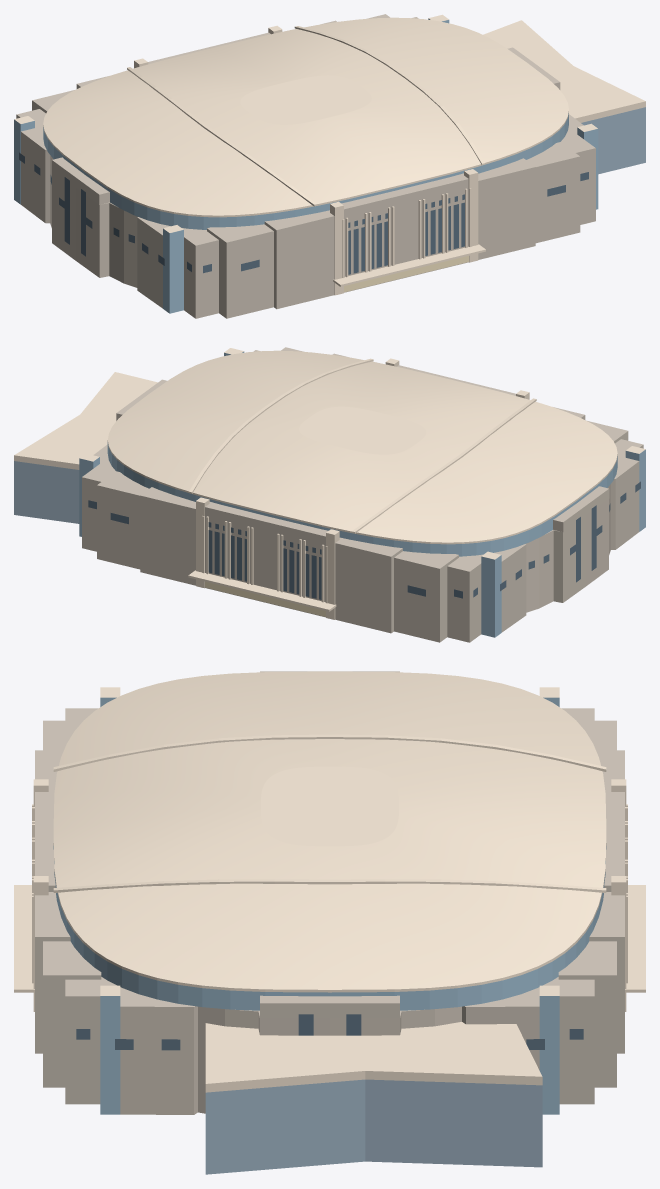
File: chi-united-center.glb
3 views of the same model, one above another, from view 1: azimuth 30°, elevation 25°; view 2: azimuth 150°, elevation 25°; view 3: azimuth 270°, elevation 25° (orthographic). The views are drawn at different scales.
Visible parts, largest first — view 1: United Center; view 2: United Center; view 3: United Center.
Part boxes in pixels (x1,y1,x2,y2): United Center: (14, 14, 645, 318); United Center: (14, 347, 645, 642); United Center: (14, 671, 645, 1174).
Bounding box in the file's own units: 189 × 35.62 × 133.
